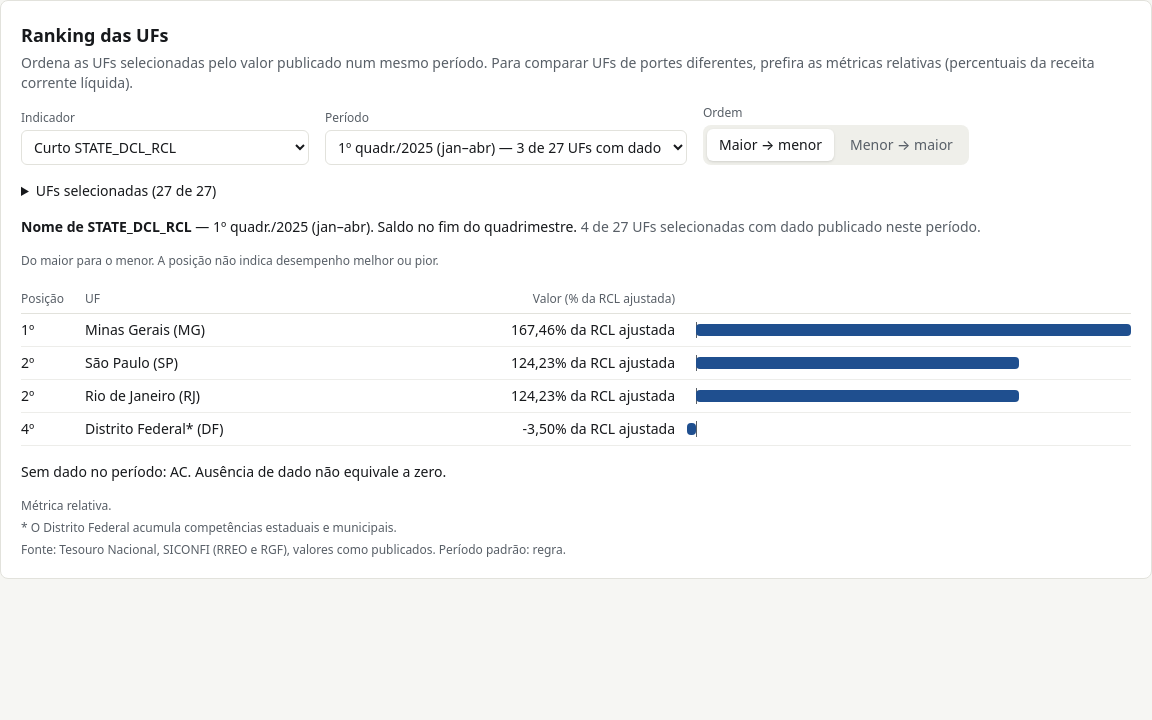
Test case: StateRankingPanel › offers relative metrics first and warns about absolute values
The image size is (1152, 720).
Select "Curto STATE_DC" in the dropdown labelled "Indicador" at (165, 148), box [21,130,309,165]
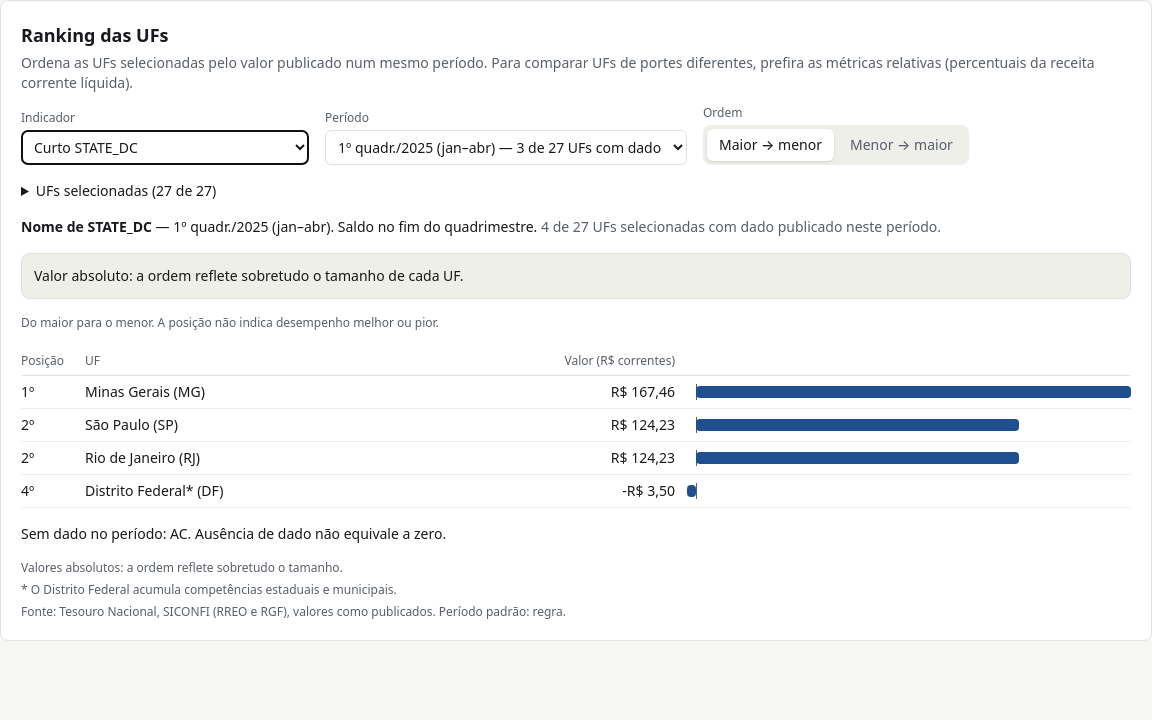
Check: the text "Valor absoluto: a ordem reflete sobretudo o tamanho de cada UF." is shown, box [21,253,1131,299]
